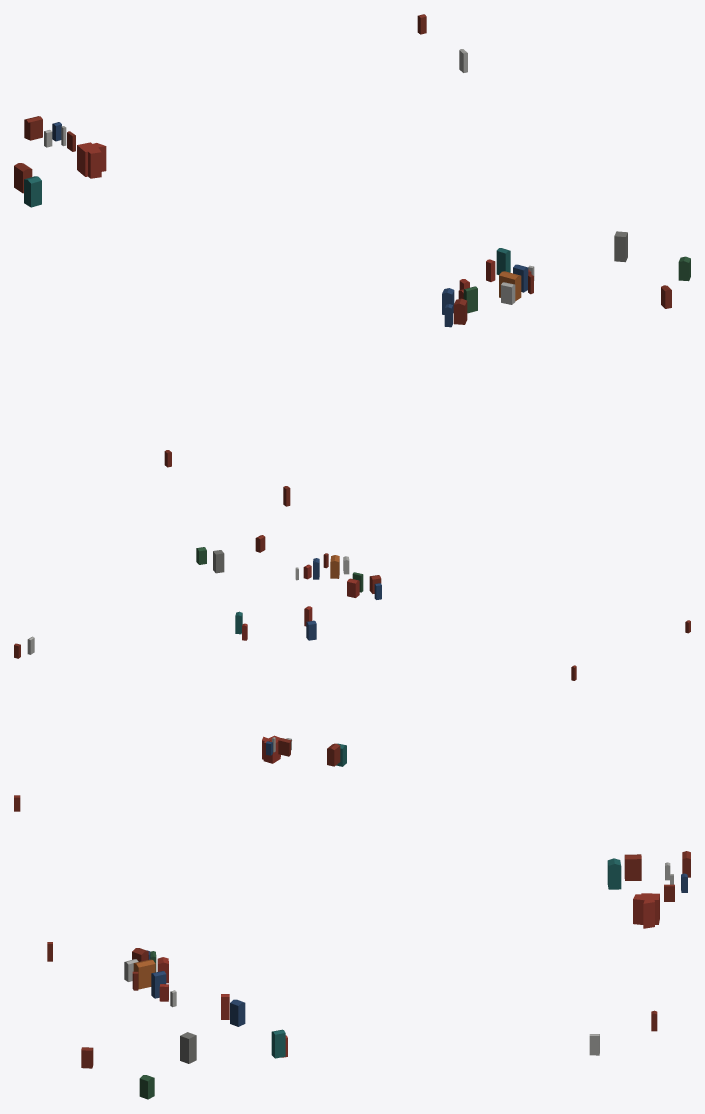
The model's file is near-16-54732-29743.1db50e21.glb.
3 views of the same model, one above another, from view 1: azimuth 30°, elevation 25°; view 2: azimuth 150°, elevation 25°; view 3: azimuth 270°, elevation 25° (orthographic). The views are drawn at different scales.
Size of the model in its own units: 564 by 148 by 561.
